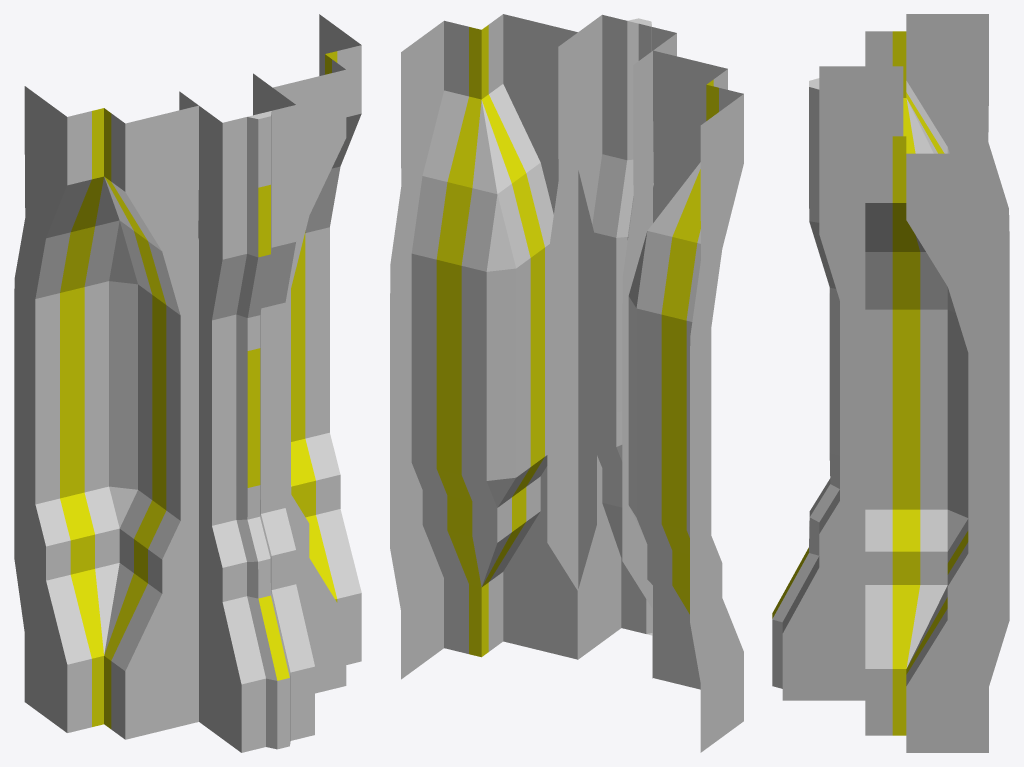
The model's file is BigColumns.fbx.
3 views of the same model, side by side, from view 1: azimuth 30°, elevation 25°; view 2: azimuth 150°, elevation 25°; view 3: azimuth 270°, elevation 25° (orthographic). The views are drawn at different scales.
Visible parts, largest first — view 1: BigColumns; view 2: BigColumns; view 3: BigColumns.
Boxes of the visible parts, x1,y1,x2,y2 form: BigColumns: (14,14,361,752); BigColumns: (390,14,743,752); BigColumns: (772,14,1009,752).
Bounding box in the file's own units: 1 × 2 × 0.7188.
